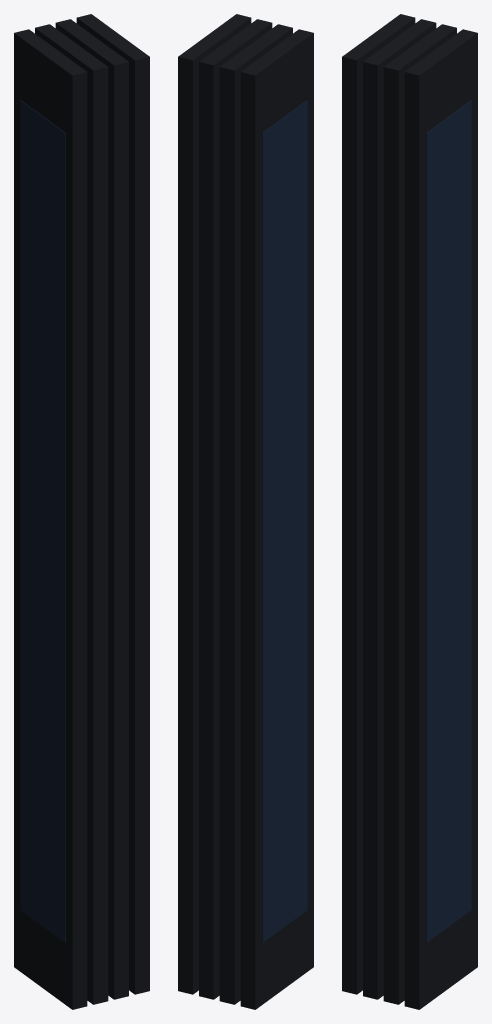
Rendered from lib_door_leaves.glb.
The picture shows the model from 3 angles, left to right: view 1: azimuth 30°, elevation 25°; view 2: azimuth 150°, elevation 25°; view 3: azimuth 330°, elevation 25°; orthographic projection.
Parts seen in each view (by area): view 1: leaves; view 2: leaves; view 3: leaves.
Boxes of the visible parts, left/top/right/bottom form: leaves: left=14, top=14, right=149, bottom=1009; leaves: left=178, top=14, right=313, bottom=1009; leaves: left=342, top=14, right=477, bottom=1009.
Bounding box in the file's own units: 0.264 × 3 × 0.34.
